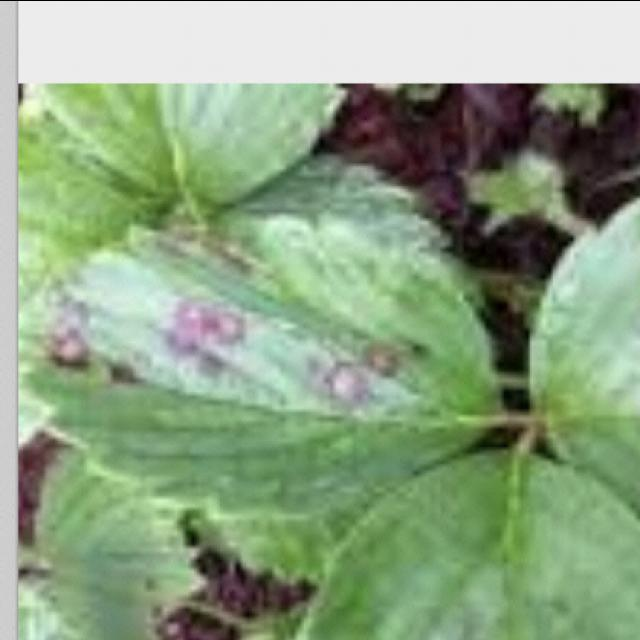Leaf Spot: (18, 149, 507, 521)
